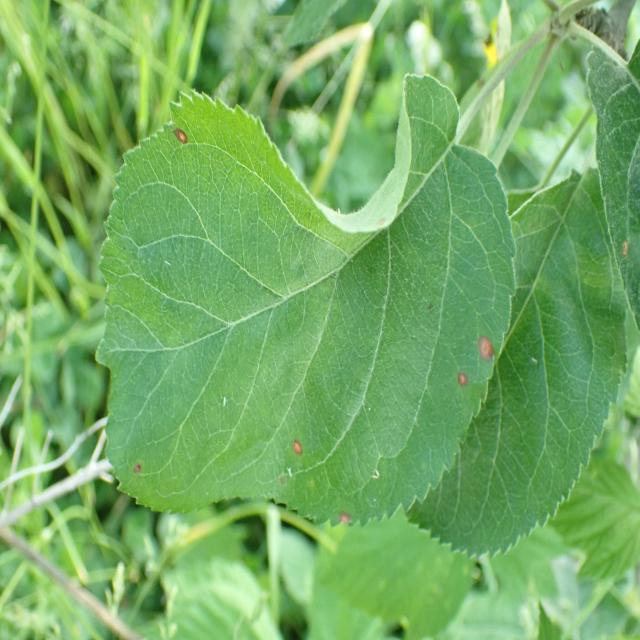frog-eye-leaf-spot: (94, 70, 516, 529)
